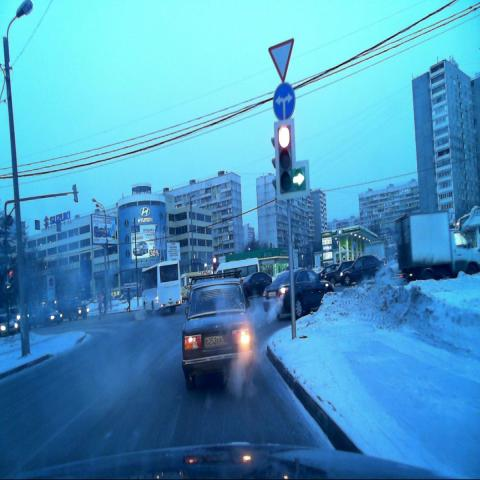4_1_6: (272, 84, 296, 122)
